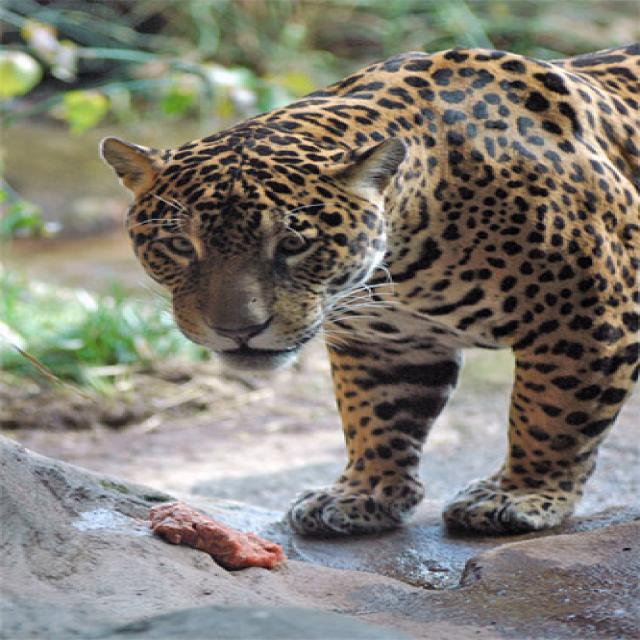Leopard: (88, 38, 634, 543)
